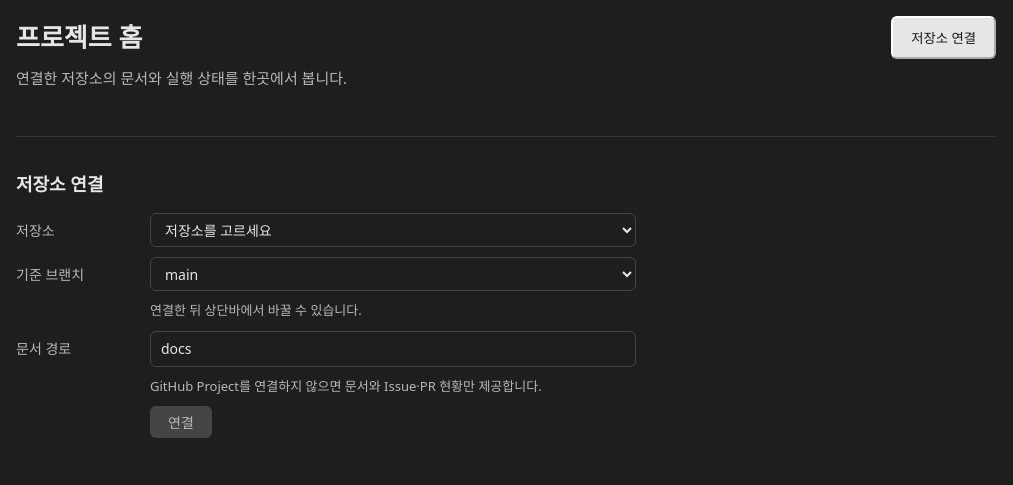
Test case: UI-001 프로젝트 홈 › shows the missing-path message under the field instead of a generic error
Select "o/r" in the dropdown labelled "저장소" at x=393, y=230, box [150,213,636,247]
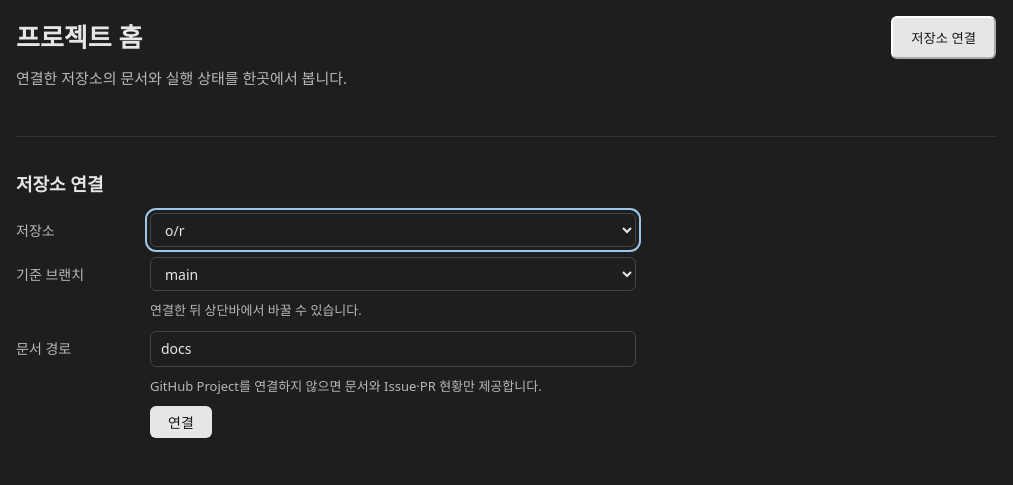
Click the button "연결".
click(181, 422)  # box [150,406,212,438]
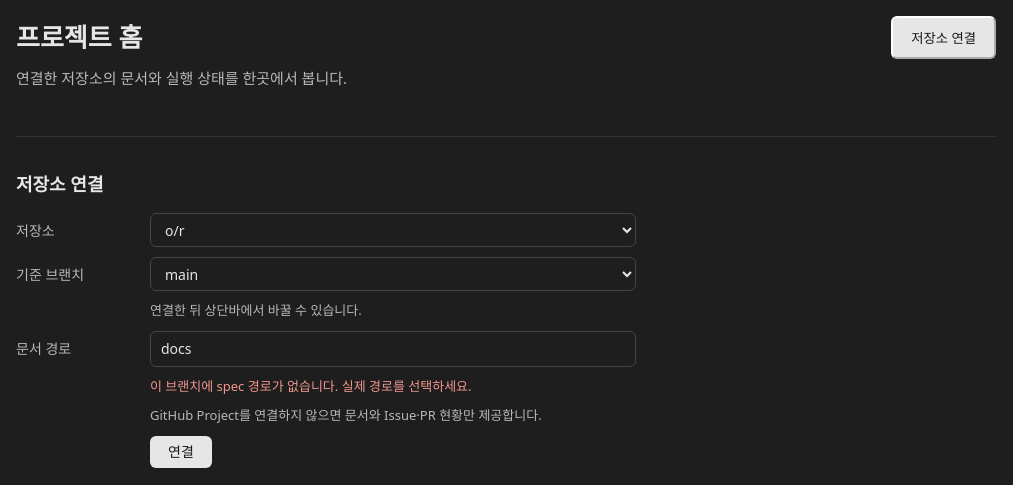
Result: the text "이 브랜치에 spec 경로가 없습니다. 실제 경로를 선택하세요." is shown at [150,377,472,395]
